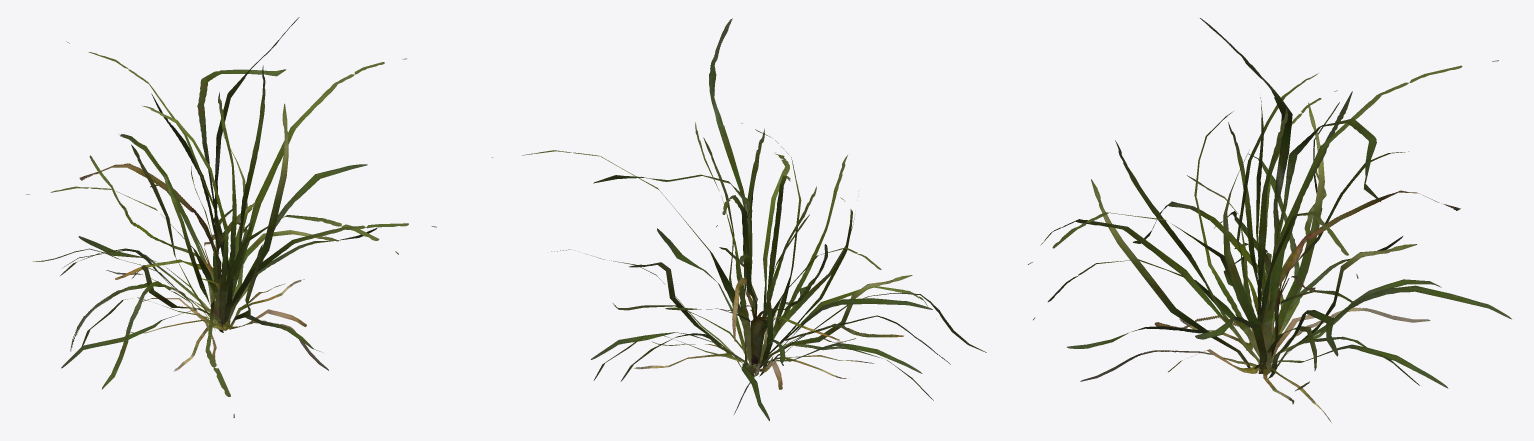
3 views of the same model, side by side, from view 1: azimuth 30°, elevation 25°; view 2: azimuth 150°, elevation 25°; view 3: azimuth 270°, elevation 25° (orthographic). The views are drawn at different scales.
Visible parts, largest first — view 1: grass_medium_01__e_lod0; view 2: grass_medium_01__e_lod0; view 3: grass_medium_01__e_lod0.
Part boxes in pixels (left/top/right/bottom): grass_medium_01__e_lod0: left=26, top=17, right=436, bottom=417; grass_medium_01__e_lod0: left=492, top=18, right=986, bottom=421; grass_medium_01__e_lod0: left=1028, top=18, right=1511, bottom=422.
Bounding box in the file's own units: 0.1848 × 0.1404 × 0.1623.
1 material, 1 textured.
